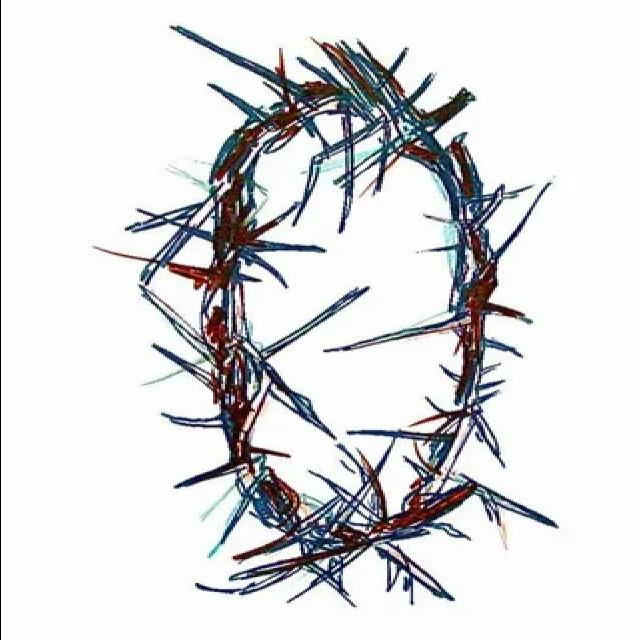crown: (149, 31, 533, 604)
